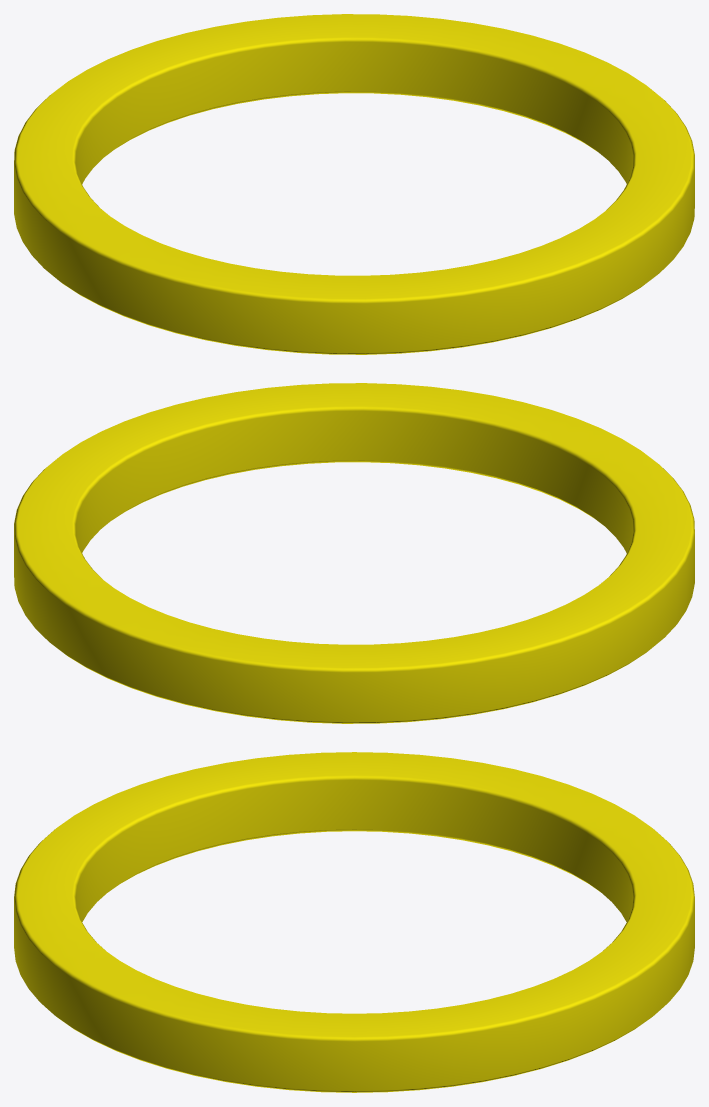
3 renders of one model, top to bottom at view 1: azimuth 30°, elevation 25°; view 2: azimuth 150°, elevation 25°; view 3: azimuth 270°, elevation 25°, orthographic.
Parts seen in each view (by area): view 1: seal_body; view 2: seal_body; view 3: seal_body.
Boxes of the visible parts, x1,y1,x2,y2 form: seal_body: [14, 14, 694, 354]; seal_body: [14, 383, 694, 723]; seal_body: [14, 752, 694, 1092].
Size of the model in its own units: 0.0698 by 0.00635 by 0.0698.
